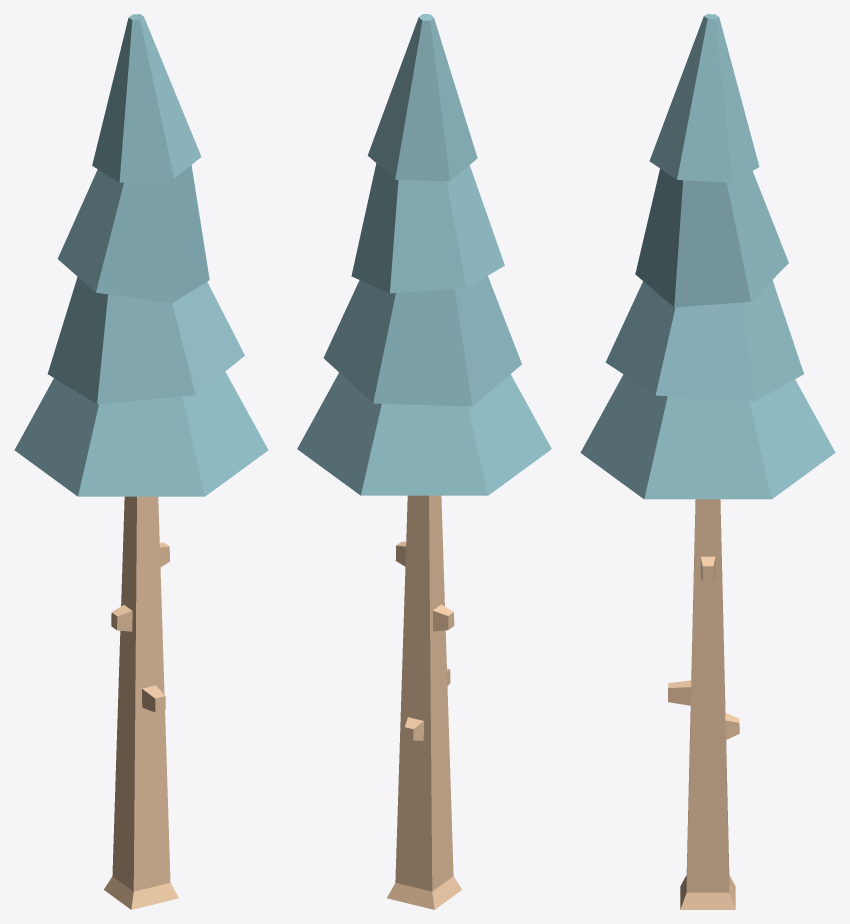
The model's file is tree_pine_tall_detailed.glb.
3 views of the same model, side by side, from view 1: azimuth 30°, elevation 25°; view 2: azimuth 150°, elevation 25°; view 3: azimuth 270°, elevation 25° (orthographic).
Parts seen in each view (by area): view 1: tree_pine_tall_detailed; view 2: tree_pine_tall_detailed; view 3: tree_pine_tall_detailed.
Part boxes in pixels (x1,y1,x2,y2): tree_pine_tall_detailed: [14, 14, 268, 909]; tree_pine_tall_detailed: [297, 14, 551, 909]; tree_pine_tall_detailed: [580, 14, 835, 909].
Bounding box in the file's own units: 0.4804 × 2.11 × 0.5547.
